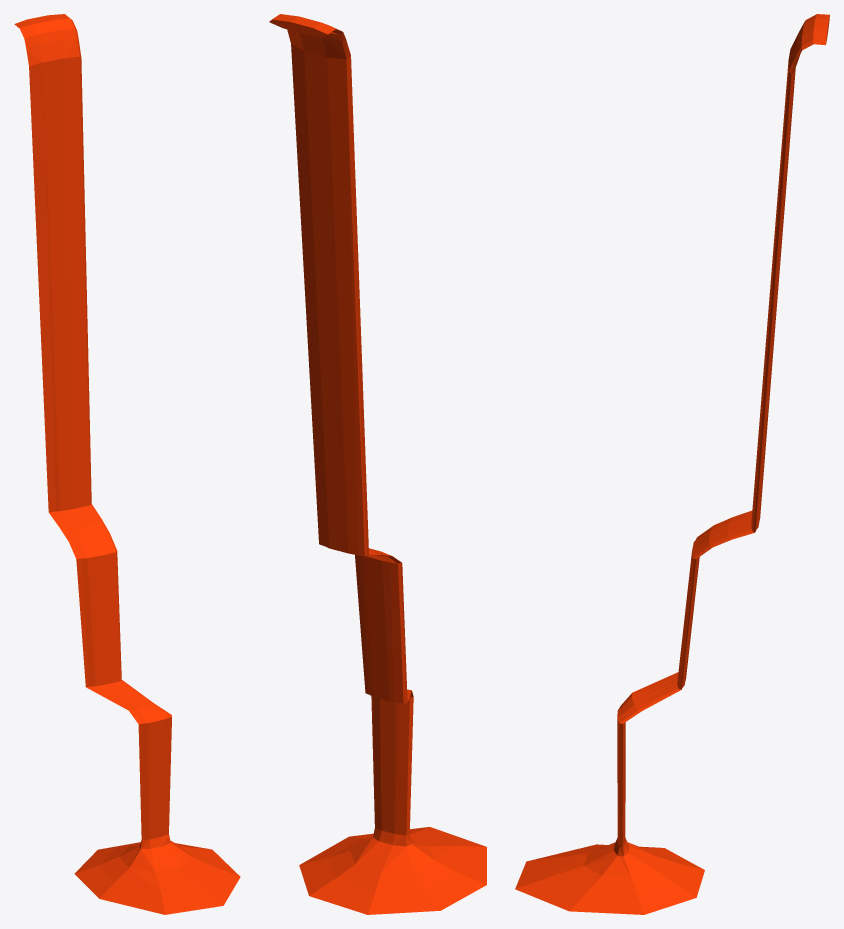
Rendered from Prop_Lava_Pour_02.FBX.
The picture shows the model from 3 angles, left to right: view 1: azimuth 30°, elevation 25°; view 2: azimuth 150°, elevation 25°; view 3: azimuth 270°, elevation 25°; orthographic projection. The views are drawn at different scales.
Visible parts, largest first — view 1: Prop_Lava_Pour_02; view 2: Prop_Lava_Pour_02; view 3: Prop_Lava_Pour_02.
Part boxes in pixels (x1,y1,x2,y2): Prop_Lava_Pour_02: (14, 14, 240, 914); Prop_Lava_Pour_02: (269, 14, 486, 914); Prop_Lava_Pour_02: (515, 14, 829, 914).
Size of the model in its own units: 987 by 5507 by 1861.
